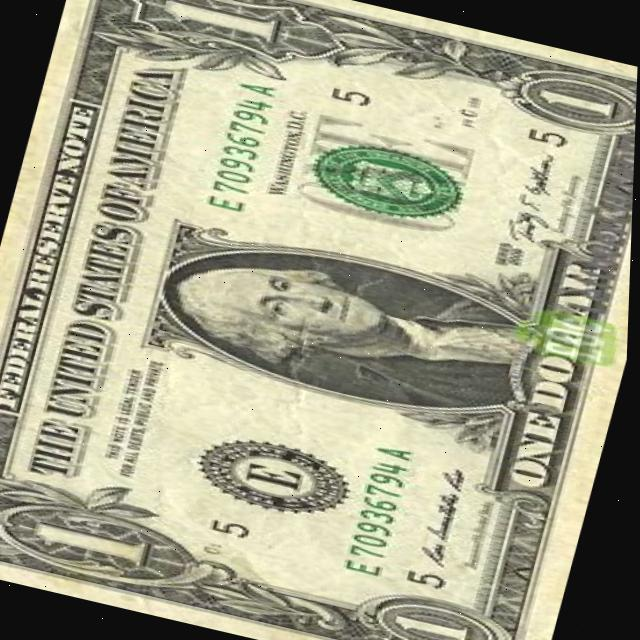banknote: (0, 0, 640, 640), (9, 501, 174, 582), (501, 402, 581, 494), (150, 0, 292, 51), (523, 74, 633, 130), (376, 596, 499, 640)
